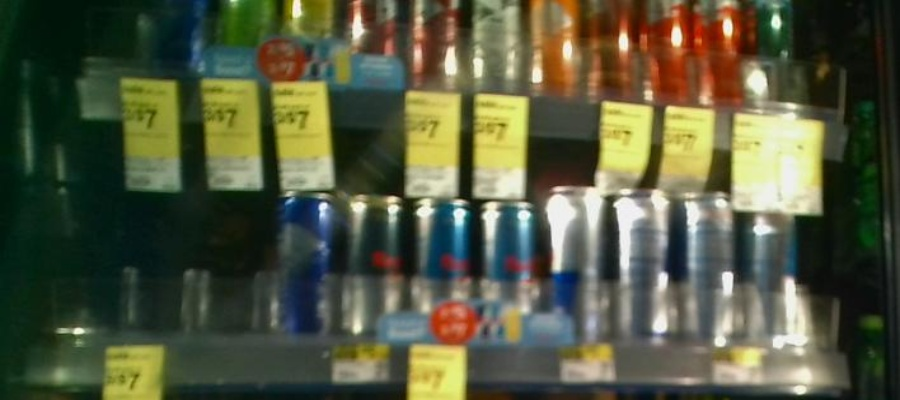bottle: (675, 173, 739, 353), (544, 179, 610, 350), (614, 175, 674, 350), (272, 187, 336, 341), (411, 195, 474, 346), (479, 191, 540, 341), (342, 189, 402, 341), (744, 193, 800, 350)
